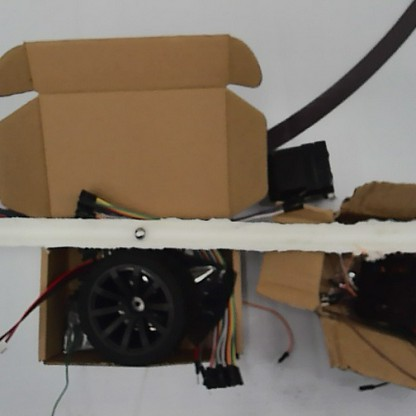ironball: (132, 223, 147, 240)
